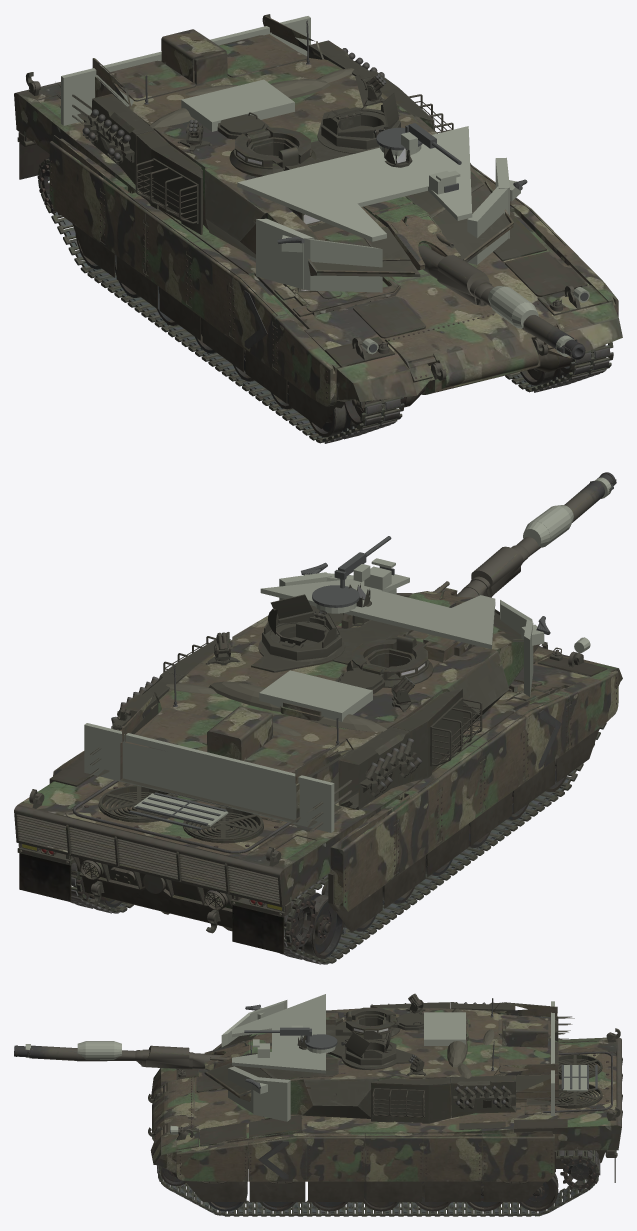
The model's file is m1a1_dannzjs_variant.glb.
3 renders of one model, top to bottom at view 1: azimuth 30°, elevation 25°; view 2: azimuth 150°, elevation 25°; view 3: azimuth 270°, elevation 25°, orthographic. The views are drawn at different scales.
Parts seen in each view (by area): view 1: TurretPivot, Object_19, Object_11, GunPivot, Object_12, RoofCap.001, Object_8, RoofCap.002, Object_9, BustleEndCap, RWSCap, RoofCap (+9 smaller); view 2: TurretPivot, Object_11, Object_19, BustleEndCap, Object_12, GunPivot, RWSCap, Object_9, Object_8, RoofCap.001, RoofCap.002, Object_21 (+10 smaller); view 3: TurretPivot, Object_19, Object_11, Object_12, Object_8, GunPivot, Object_21, RoofCap.001, RoofCap, CheekShoulder.001, RWSCap, Object_9 (+15 smaller).
Boxes of the visible parts, bbox=[...] form: TurretPivot: bbox=[55, 15, 513, 292]; Object_19: bbox=[49, 135, 618, 406]; Object_11: bbox=[14, 82, 622, 407]; GunPivot: bbox=[363, 196, 585, 359]; Object_12: bbox=[72, 223, 608, 428]; RoofCap.001: bbox=[237, 163, 386, 241]; Object_8: bbox=[38, 160, 613, 442]; RoofCap.002: bbox=[318, 147, 427, 206]; Object_9: bbox=[39, 159, 606, 443]; BustleEndCap: bbox=[61, 16, 310, 125]; RWSCap: bbox=[181, 79, 294, 131]; RoofCap: bbox=[406, 126, 472, 220]; TurretPivot: bbox=[87, 583, 539, 832]; Object_11: bbox=[14, 654, 622, 953]; Object_19: bbox=[53, 647, 618, 911]; BustleEndCap: bbox=[84, 723, 334, 832]; Object_12: bbox=[328, 728, 599, 932]; GunPivot: bbox=[408, 472, 616, 607]; RWSCap: bbox=[259, 670, 372, 721]; Object_9: bbox=[71, 724, 604, 963]; Object_8: bbox=[71, 722, 606, 963]; RoofCap.001: bbox=[411, 595, 495, 649]; RoofCap.002: bbox=[343, 591, 450, 629]; Object_21: bbox=[89, 760, 566, 958]; TurretPivot: bbox=[204, 993, 574, 1123]; Object_19: bbox=[151, 1052, 616, 1181]; Object_11: bbox=[150, 1037, 622, 1182]; Object_12: bbox=[171, 1150, 555, 1201]; Object_8: bbox=[158, 1150, 598, 1216]; GunPivot: bbox=[14, 1040, 271, 1070]; Object_21: bbox=[208, 1174, 557, 1211]; RoofCap.001: bbox=[232, 994, 325, 1037]; RoofCap: bbox=[232, 1048, 325, 1073]; CheekShoulder.001: bbox=[253, 1077, 290, 1121]; RWSCap: bbox=[424, 1012, 465, 1045]; Object_9: bbox=[158, 1150, 598, 1216].
Bounding box in the file's own units: 5.01 × 3.7 × 12.75.
21 materials, 16 textured.
